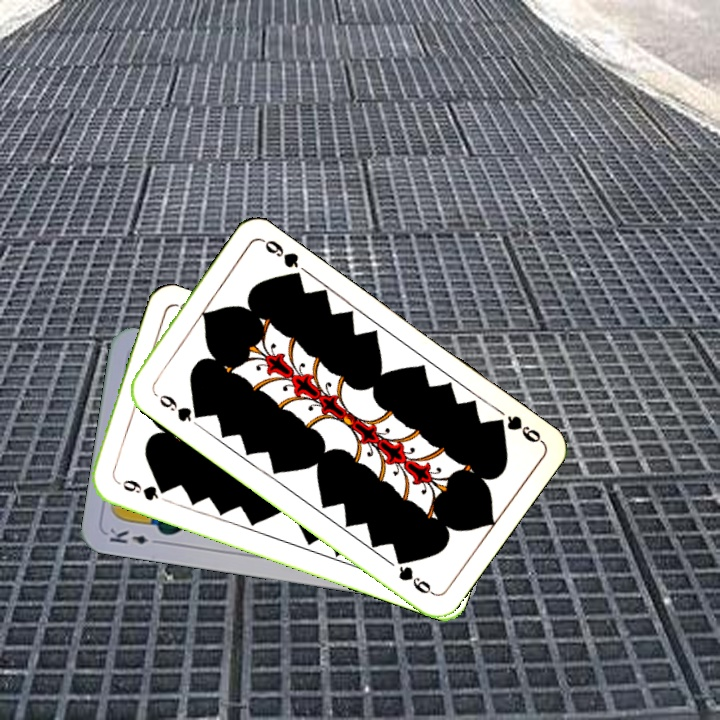EK: (105, 524, 164, 547)
G9: (149, 387, 205, 425), (487, 411, 545, 446), (111, 475, 170, 504)
